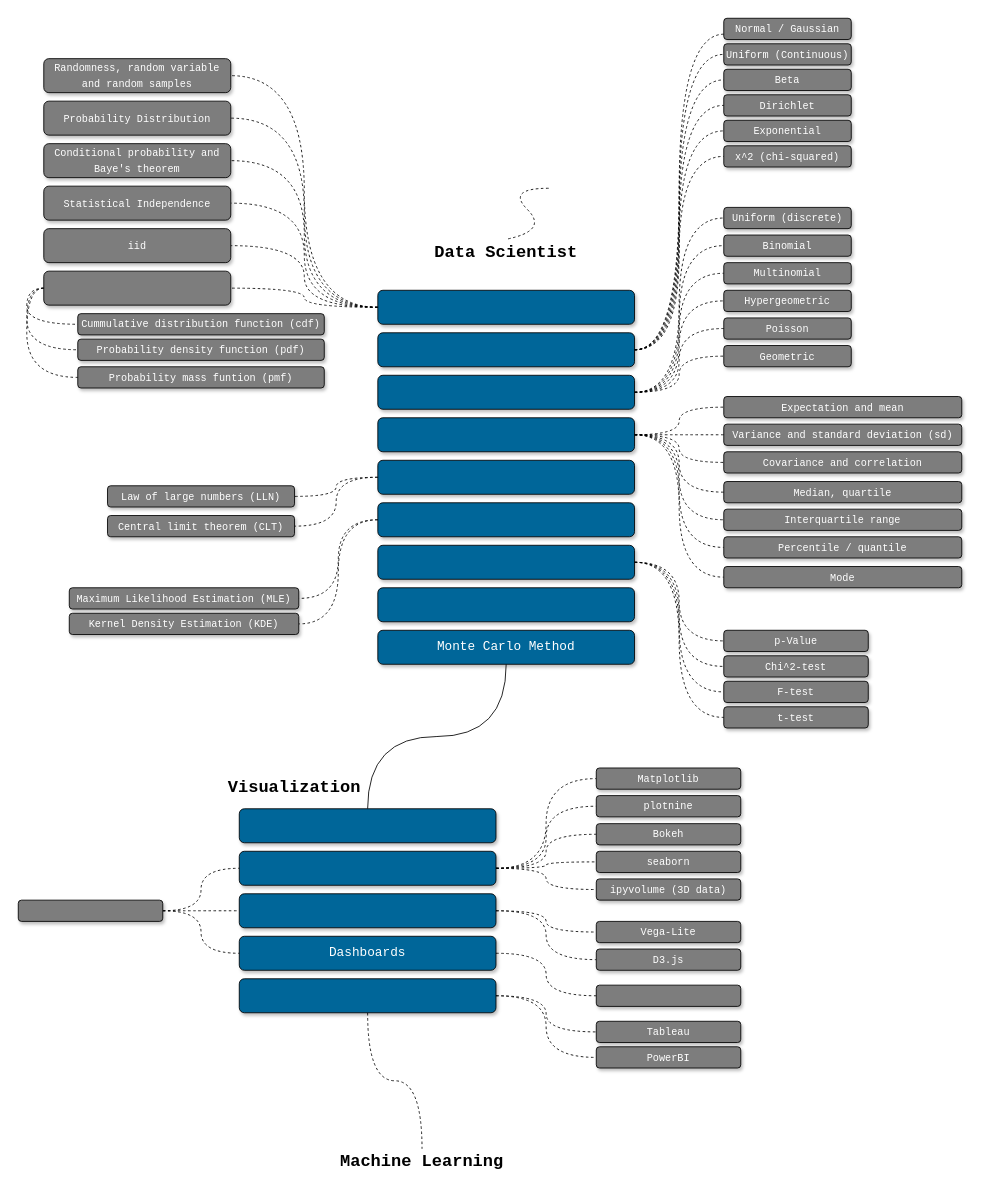
The diagram is 982 pixels wide and 1189 high, and some of its shapes have lost their labels. Here are the shapes that lost their labels. From the top down, the centre of each, then its label:
At point 138,289: "cdf, pdf, pmf".
At point 507,308: "Probability Theory".
At point 507,351: "Continuous distributions (pdf's)".
At point 507,393: "Discrete distributions (pdf's)".
At point 507,436: "Summary Statistics".
At point 507,478: "Important Laws".
At point 507,521: "Estimation".
At point 507,563: "Hypothesis Testing".
At point 507,606: "Confidence Interval (CI)".
At point 368,827: "Chart suggestion thought starter".
At point 368,869: "Python".
At point 91,911: "Streamlit".
At point 368,912: "Web".
At point 368,997: "BI".
At point 669,996: "Dash".
